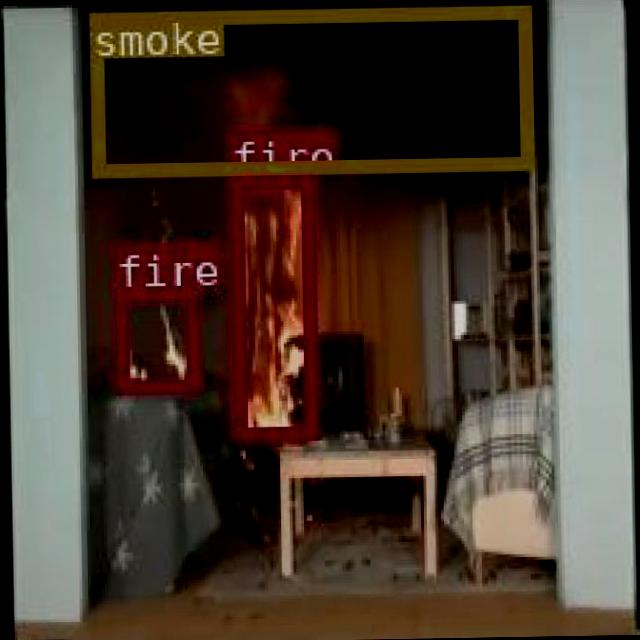fire: (228, 173, 314, 438), (113, 286, 196, 391)
smoke: (88, 4, 530, 175)
